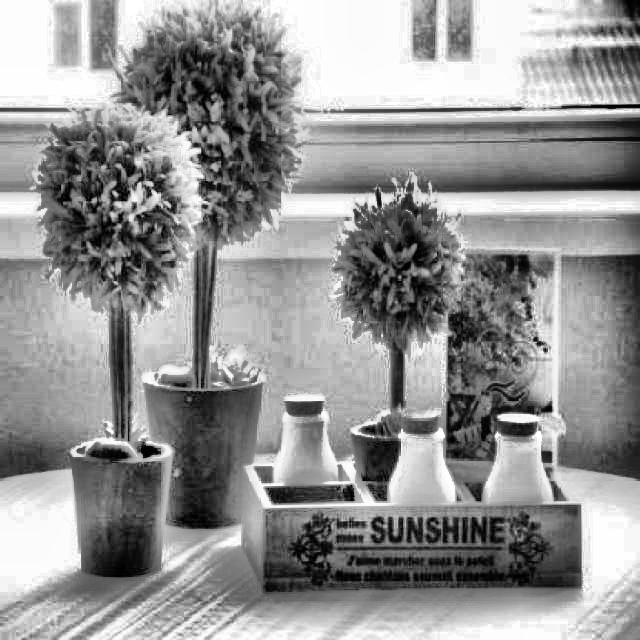plants: (143, 8, 260, 522), (61, 119, 158, 578), (344, 202, 448, 467)
